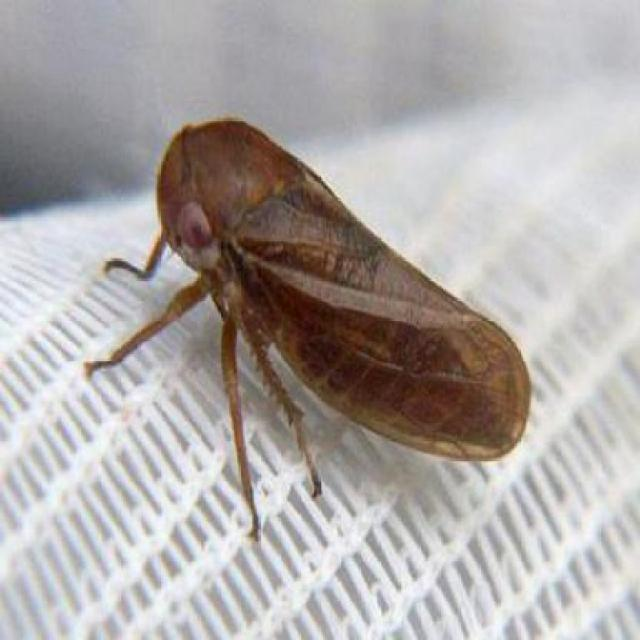brown-planthopper: (135, 100, 531, 465)
